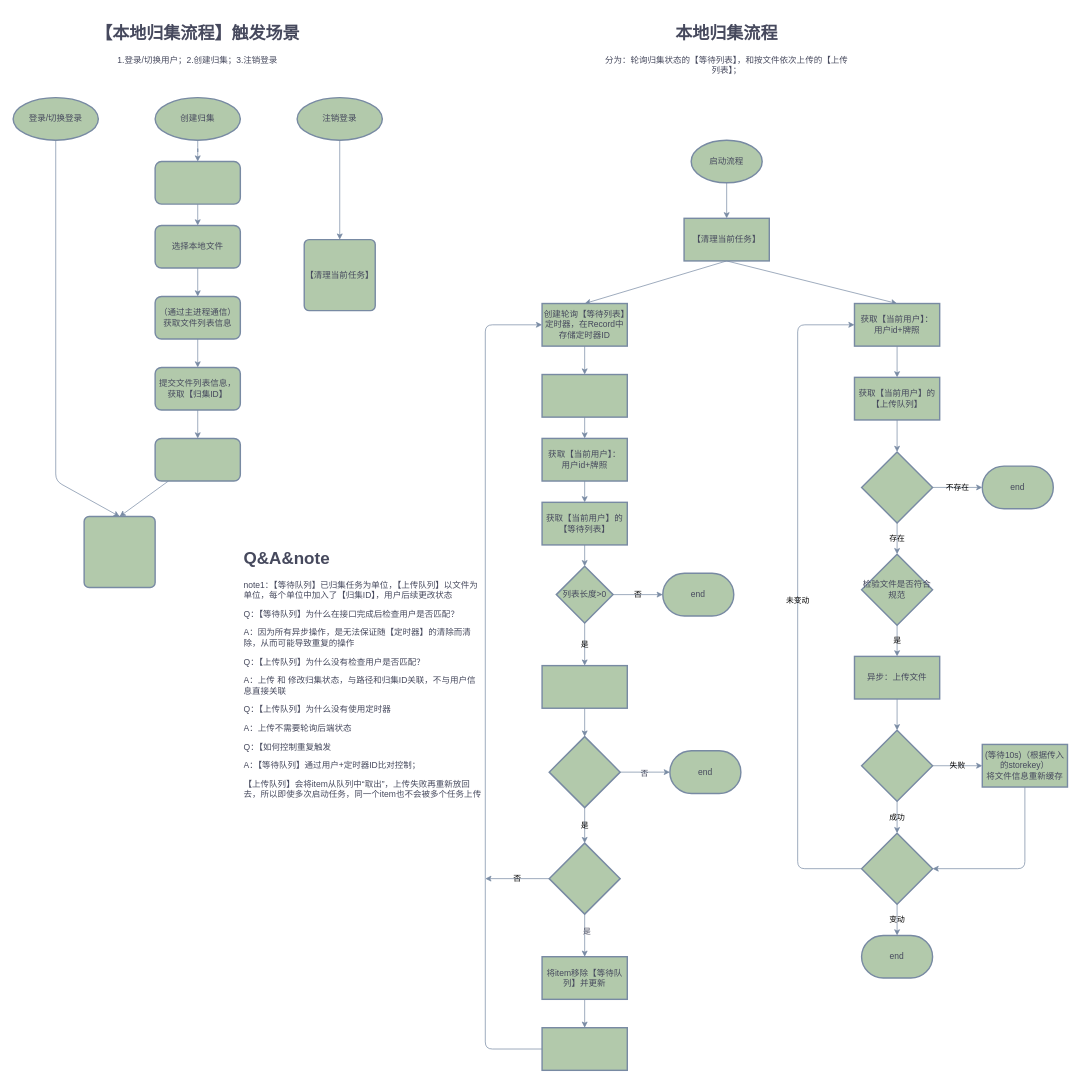
The diagram is 1080 pixels wide and 1083 high, and some of its shapes have lost their labels. Here are the shapes that lost their labels. From the top down, the centre of each, then its label:
At point (197, 182): "初始化进程通信监听（once）".
At point (584, 395): "等待【定时器】触发".
At point (197, 459): "本地缓存【等待列表】：包括归集ID+文件列表信息".
At point (897, 487): "取出一个文件".
At point (119, 551): "【清理当前任务】+ 【本地归集流程】".
At point (584, 687): "异步：查询所有item的归集状态".
At point (584, 772): "检查入参的【当前用户】与Store中的是否匹配，定时器ID是否匹配".
At point (897, 765): "调用接口：修改归集状态，将成功或失败写入".
At point (584, 878): "接口正常返回数据".
At point (897, 868): "对比TaskKey是否变动".
At point (584, 1049): "对比处理数据，加入【上传队列】".
